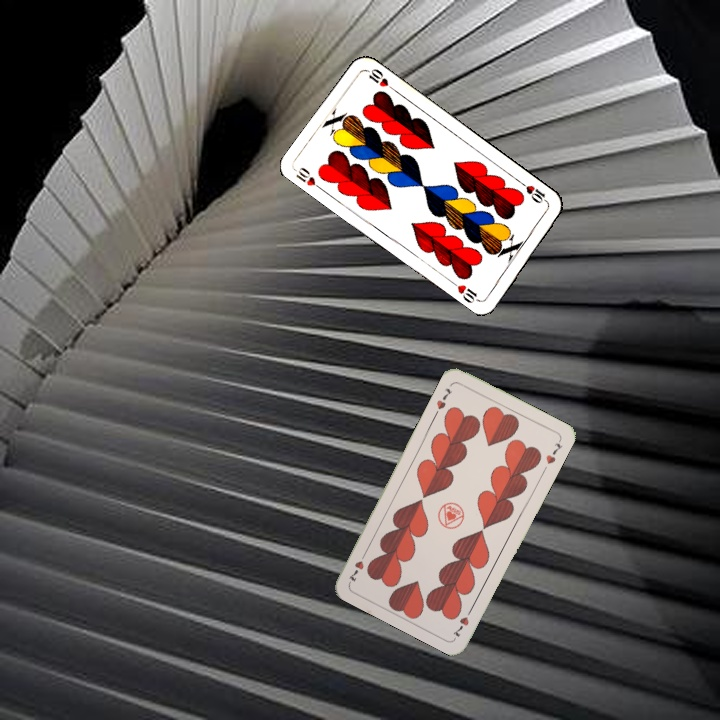H10: (291, 163, 327, 194), (516, 177, 551, 207)
H7: (449, 603, 475, 641), (432, 384, 455, 412)
